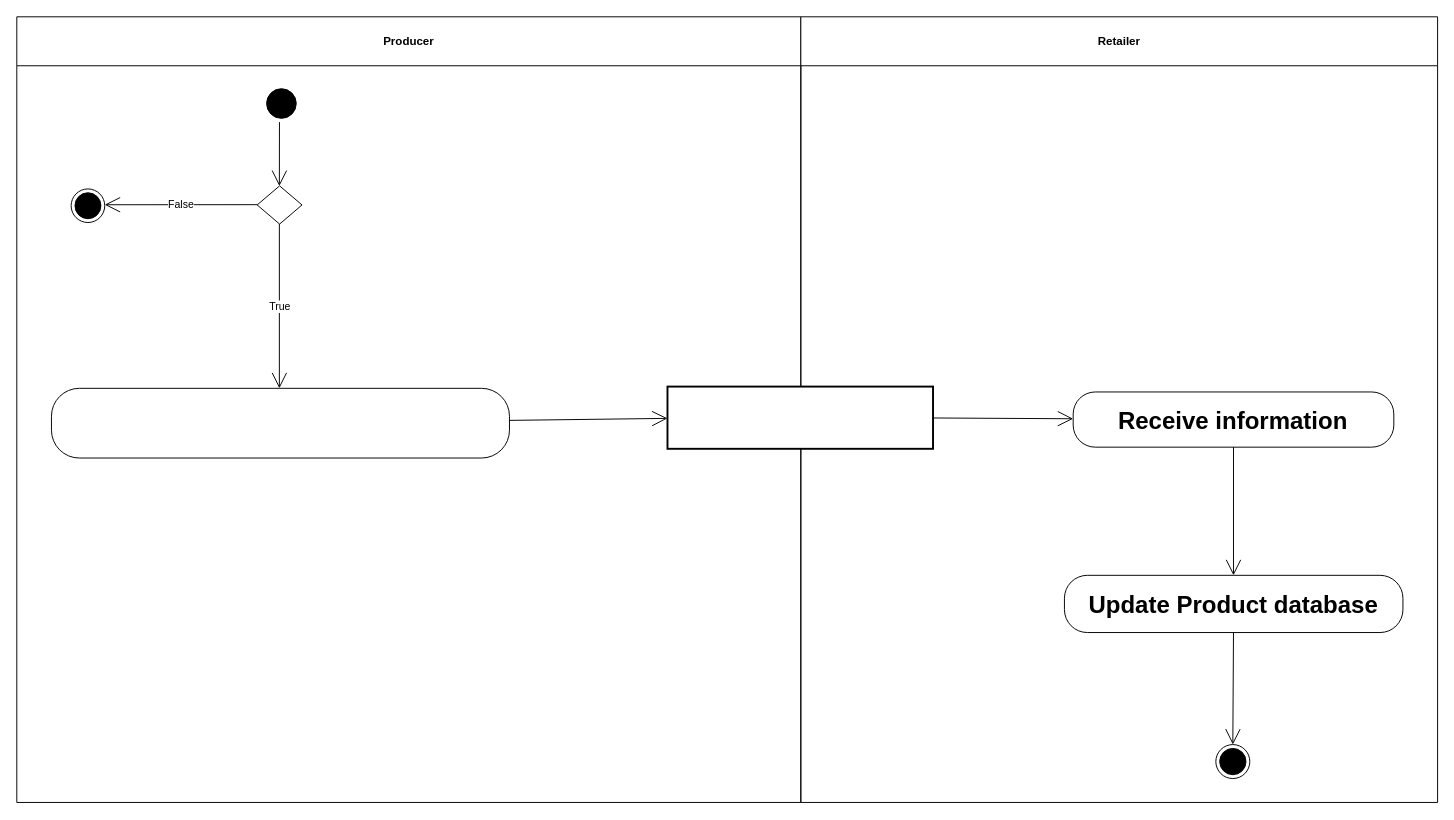
Image size: 1454x820. Some labels were removed from this diagram. The shapes that lost their labels are listed below. From the top down, each one's centre as x and y in pixels, then its label:
[279,422]: Inform about changes inside the catalogue
[800,417]: Catalogue
